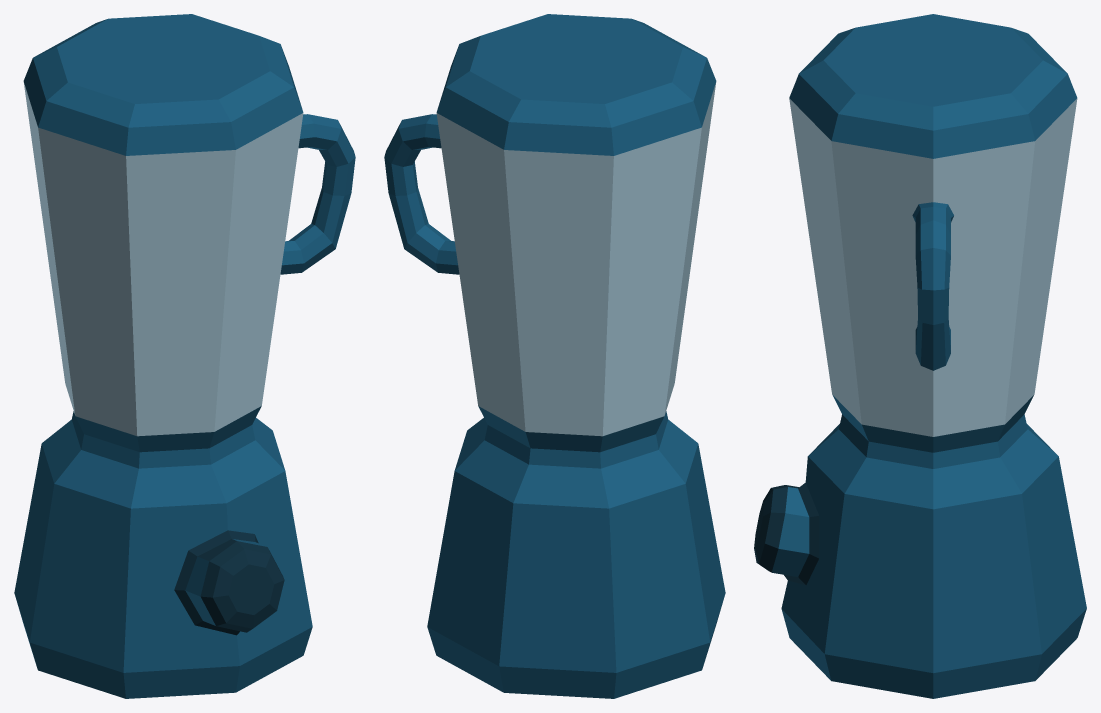
The model's file is blender.fbx.
The picture shows the model from 3 angles, left to right: view 1: azimuth 30°, elevation 25°; view 2: azimuth 150°, elevation 25°; view 3: azimuth 270°, elevation 25°; orthographic projection.
Visible parts, largest first — view 1: blender; view 2: blender; view 3: blender.
Part boxes in pixels (<box>): blender: <box>14,14,355,698</box>; blender: <box>384,14,725,698</box>; blender: <box>754,14,1086,698</box>.
Bounding box in the file's own units: 0.1923 × 0.3362 × 0.172.
1 material, 1 textured.
